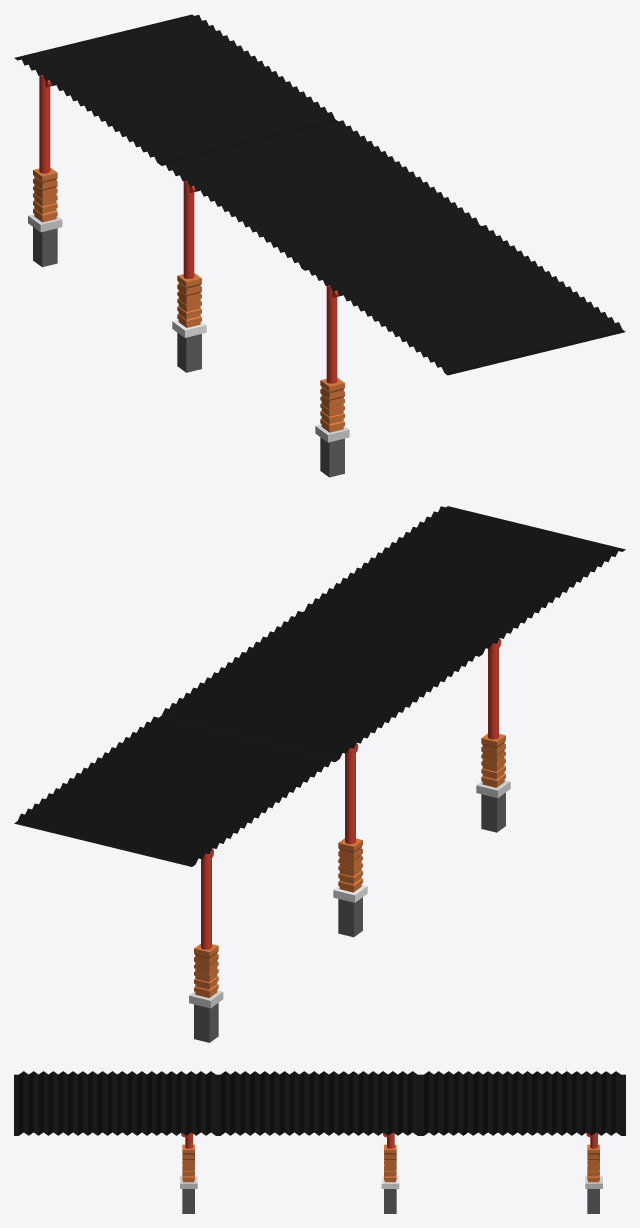
Rendered from Shelter.fbx.
The picture shows the model from 3 angles, top to bottom: view 1: azimuth 30°, elevation 25°; view 2: azimuth 150°, elevation 25°; view 3: azimuth 270°, elevation 25°; orthographic projection. The views are drawn at different scales.
Visible parts, largest first — view 1: Cube.015, Cube.008, Cube.007, Cube.013, Cube.020, Cube.002, Cube.012, Cube.019, Cube.003, Cube.017, Cube.010, Cube.005; view 2: Cube.015, Cube.007, Cube.008, Cube.013, Cube.020, Cube.002, Cube.019, Cube.012, Cube.003, Cube.017, Cube.010, Cube.005; view 3: Cube.015, Cube.007, Cube.008, Cube.002, Cube.013, Cube.020, Cube.005, Cube.010, Cube.017.
Boxes of the visible parts, x1=… form: Cube.015: x1=14, y1=14, x2=337, y2=165; Cube.008: x1=305, y1=225, x2=625, y2=375; Cube.007: x1=161, y1=120, x2=480, y2=270; Cube.013: x1=320, y1=377, x2=344, y2=432; Cube.020: x1=33, y1=167, x2=57, y2=222; Cube.002: x1=177, y1=273, x2=201, y2=327; Cube.012: x1=326, y1=285, x2=337, y2=383; Cube.019: x1=39, y1=75, x2=50, y2=173; Cube.003: x1=183, y1=180, x2=194, y2=278; Cube.017: x1=33, y1=227, x2=57, y2=267; Cube.010: x1=320, y1=437, x2=344, y2=477; Cube.005: x1=177, y1=333, x2=201, y2=372; Cube.015: x1=14, y1=716, x2=338, y2=866; Cube.007: x1=161, y1=611, x2=482, y2=759; Cube.008: x1=305, y1=506, x2=625, y2=656; Cube.013: x1=481, y1=733, x2=505, y2=787; Cube.020: x1=194, y1=943, x2=218, y2=997; Cube.002: x1=338, y1=838, x2=362, y2=892; Cube.019: x1=201, y1=850, x2=211, y2=949; Cube.012: x1=488, y1=640, x2=498, y2=739; Cube.003: x1=345, y1=744, x2=355, y2=844; Cube.017: x1=194, y1=1003, x2=218, y2=1042; Cube.010: x1=481, y1=792, x2=505, y2=832; Cube.005: x1=338, y1=897, x2=362, y2=937; Cube.015: x1=419, y1=1071, x2=625, y2=1135; Cube.007: x1=216, y1=1071, x2=418, y2=1135; Cube.008: x1=14, y1=1071, x2=215, y2=1135; Cube.002: x1=384, y1=1144, x2=396, y2=1182; Cube.013: x1=182, y1=1144, x2=194, y2=1182; Cube.020: x1=587, y1=1144, x2=599, y2=1182; Cube.005: x1=384, y1=1189, x2=396, y2=1213; Cube.010: x1=182, y1=1189, x2=194, y2=1213; Cube.017: x1=587, y1=1189, x2=599, y2=1213.
Bounding box in the file's own units: 2311 × 2380 × 9626.
